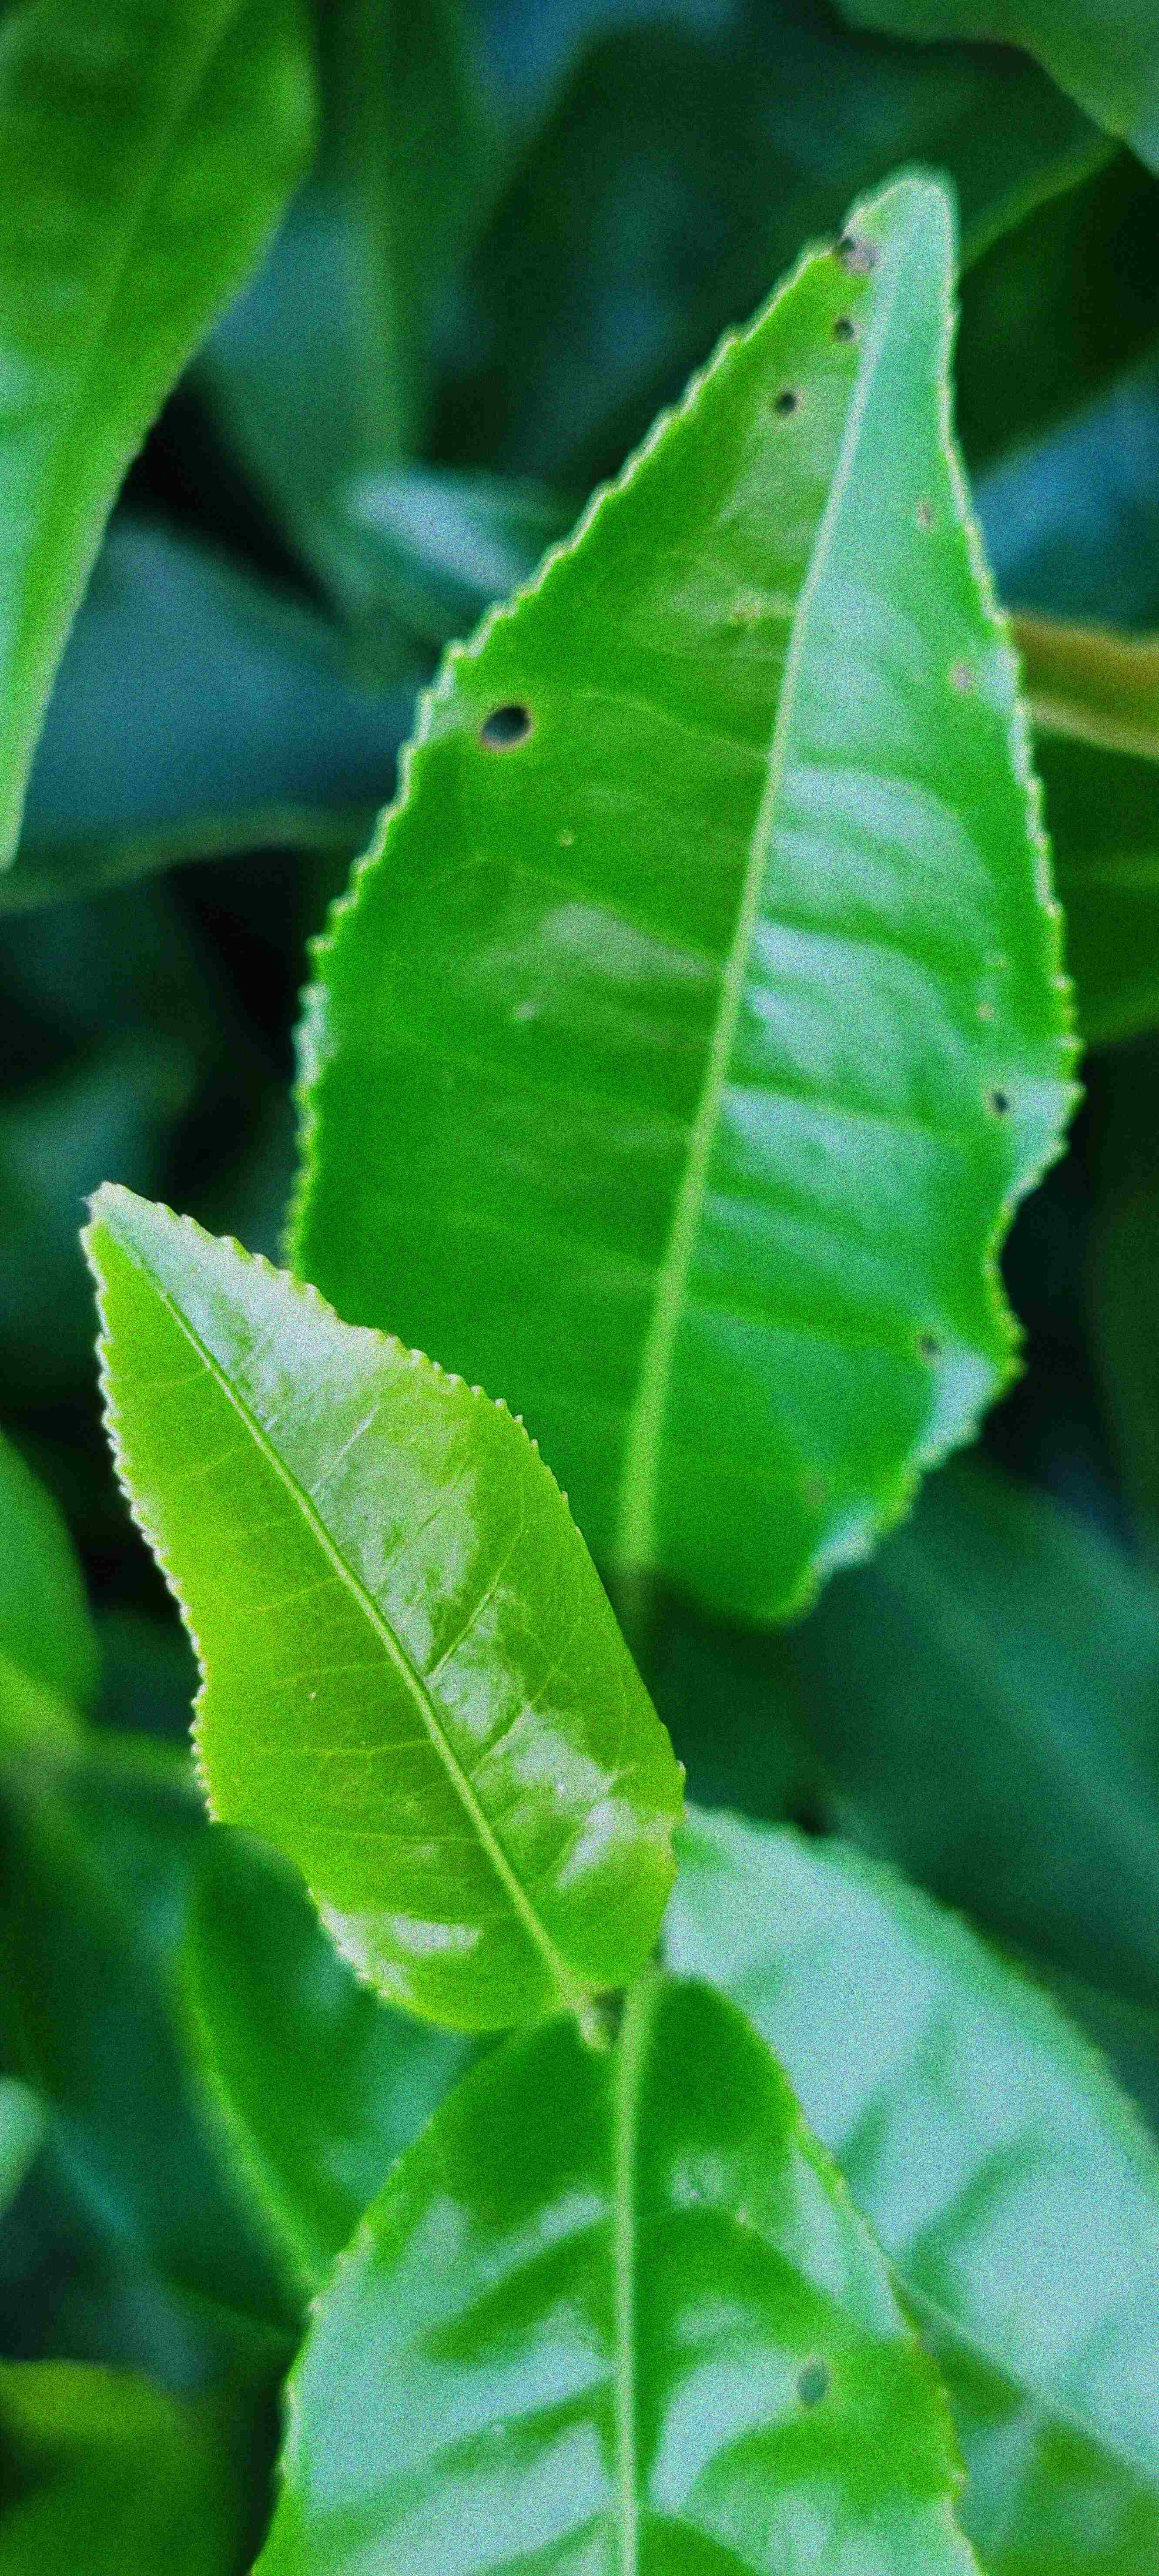chihuo_high: (277, 159, 1090, 1623)
chihuo_low: (245, 1980, 995, 2574)
healthy: (77, 1180, 688, 2035)
